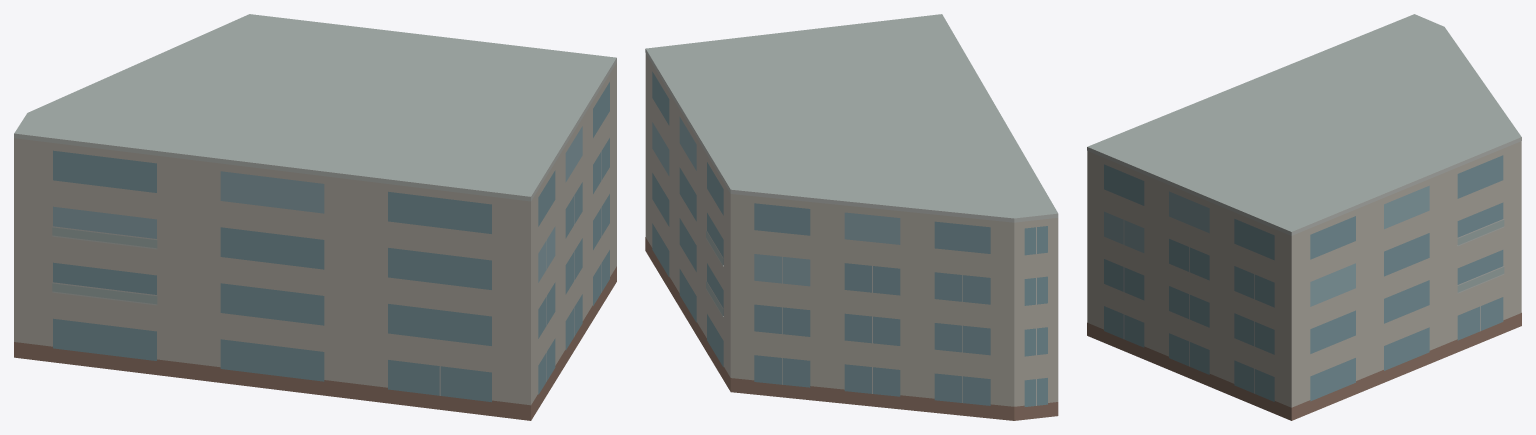
File: survey-upis-32996593.glb
3 views of the same model, side by side, from view 1: azimuth 30°, elevation 25°; view 2: azimuth 150°, elevation 25°; view 3: azimuth 270°, elevation 25° (orthographic). The views are drawn at different scales.
Parts seen in each view (by area): view 1: survey-upis-32996593.tmp; view 2: survey-upis-32996593.tmp; view 3: survey-upis-32996593.tmp.
Boxes of the visible parts, x1,y1,x2,y2 form: survey-upis-32996593.tmp: [14, 14, 616, 420]; survey-upis-32996593.tmp: [645, 14, 1058, 420]; survey-upis-32996593.tmp: [1087, 14, 1521, 420].
Size of the model in its own units: 28.96 by 11.7 by 24.4.
